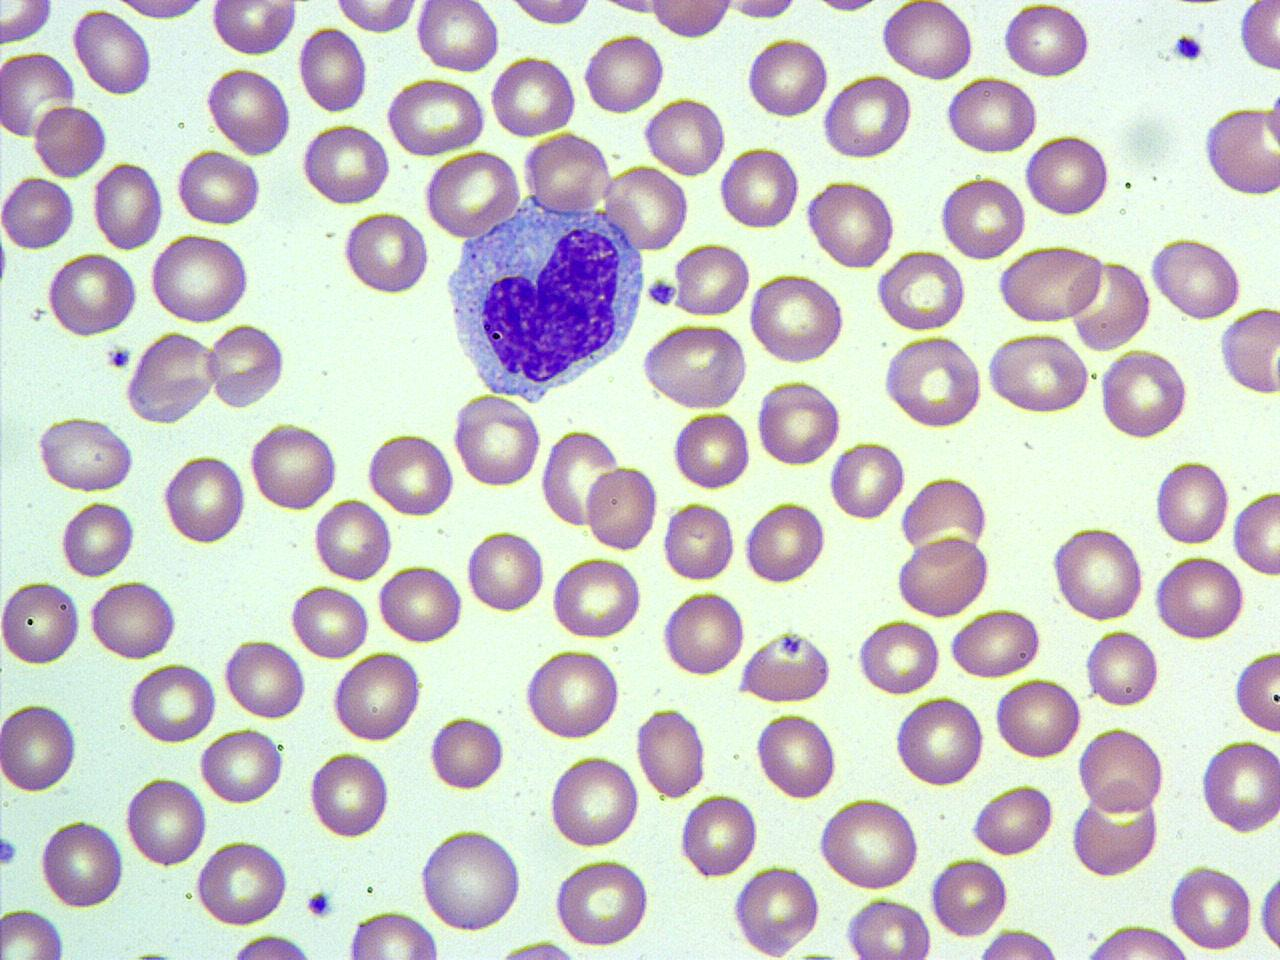Platelets: (645, 276, 679, 309), (1172, 32, 1206, 63), (306, 888, 336, 918), (0, 832, 20, 871), (107, 345, 131, 371)
RBC: (416, 826, 527, 934), (639, 322, 752, 412), (818, 795, 922, 892), (880, 334, 986, 430), (148, 229, 252, 325), (546, 751, 642, 853), (522, 646, 624, 742), (746, 270, 846, 367), (1049, 523, 1145, 624), (331, 648, 426, 746), (552, 856, 653, 949), (124, 328, 220, 425), (193, 836, 290, 931), (1097, 346, 1191, 442), (248, 418, 340, 516), (984, 332, 1090, 416), (423, 150, 524, 239), (996, 243, 1107, 324), (892, 695, 987, 789), (452, 392, 542, 490), (804, 178, 898, 271), (1151, 552, 1245, 644), (732, 862, 822, 958), (539, 424, 622, 528), (1069, 788, 1161, 880), (1076, 723, 1166, 818), (45, 250, 140, 340), (1149, 233, 1245, 322), (37, 816, 125, 912), (752, 708, 840, 804), (384, 76, 488, 156), (366, 428, 458, 518), (822, 72, 915, 161), (161, 452, 248, 548), (124, 772, 209, 870), (755, 375, 844, 468), (874, 247, 968, 335), (206, 65, 293, 158), (549, 555, 645, 640), (943, 74, 1041, 157), (1068, 256, 1154, 351), (893, 534, 990, 618), (32, 416, 136, 494), (522, 128, 612, 218), (300, 120, 392, 208), (992, 676, 1084, 762), (880, 0, 976, 84), (603, 163, 691, 253), (938, 172, 1027, 262), (488, 52, 578, 141), (340, 209, 430, 296), (1199, 737, 1280, 835), (1168, 861, 1254, 953), (306, 748, 391, 841), (897, 473, 991, 557), (0, 699, 80, 797), (1022, 132, 1112, 219), (127, 662, 219, 746), (71, 6, 154, 99), (0, 576, 83, 670), (660, 588, 746, 678), (88, 578, 180, 661), (1202, 100, 1280, 198), (377, 560, 464, 646), (718, 142, 801, 232), (744, 34, 830, 120), (743, 500, 827, 588), (582, 30, 666, 118), (464, 526, 546, 616), (678, 791, 760, 881), (1152, 455, 1232, 548), (0, 47, 78, 142), (1000, 1, 1092, 81), (222, 637, 307, 722), (634, 704, 710, 800), (736, 630, 833, 705), (312, 495, 394, 583), (207, 322, 288, 408), (175, 146, 262, 228), (856, 616, 942, 698), (198, 726, 286, 806), (928, 854, 1010, 940), (641, 96, 727, 177), (671, 407, 753, 493), (968, 781, 1055, 860), (93, 158, 166, 253), (947, 606, 1043, 679), (584, 462, 659, 554), (828, 437, 907, 524), (297, 23, 368, 116), (428, 711, 506, 795), (1084, 626, 1162, 710), (660, 499, 736, 584), (289, 582, 371, 659), (413, 0, 500, 73), (59, 498, 136, 580), (672, 241, 750, 320), (1, 172, 77, 253), (32, 102, 110, 179), (1219, 306, 1280, 399), (843, 897, 933, 959), (208, 0, 298, 57), (342, 908, 441, 958), (1230, 484, 1280, 578), (1232, 646, 1280, 736), (1076, 923, 1194, 959), (0, 906, 68, 960), (648, 0, 737, 41), (330, 0, 422, 35), (972, 926, 1065, 960), (1237, 0, 1279, 76), (220, 932, 323, 960), (505, 0, 596, 29), (0, 1, 54, 48), (1255, 856, 1279, 960), (108, 0, 214, 23), (716, 0, 810, 23)
WBC: (437, 189, 648, 408)
